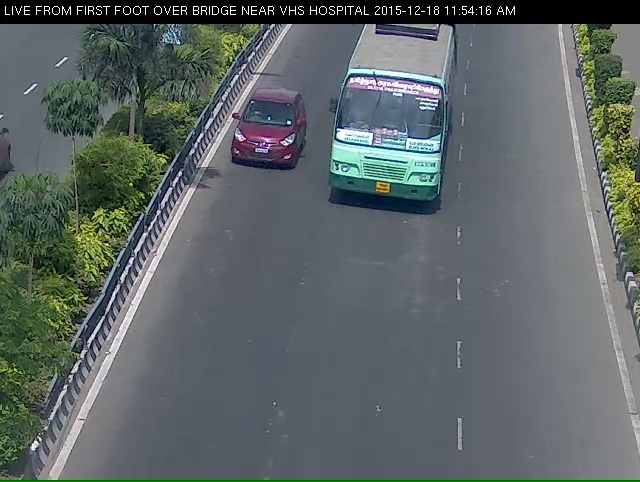Bus: (313, 20, 467, 222)
Car: (222, 100, 298, 185)
